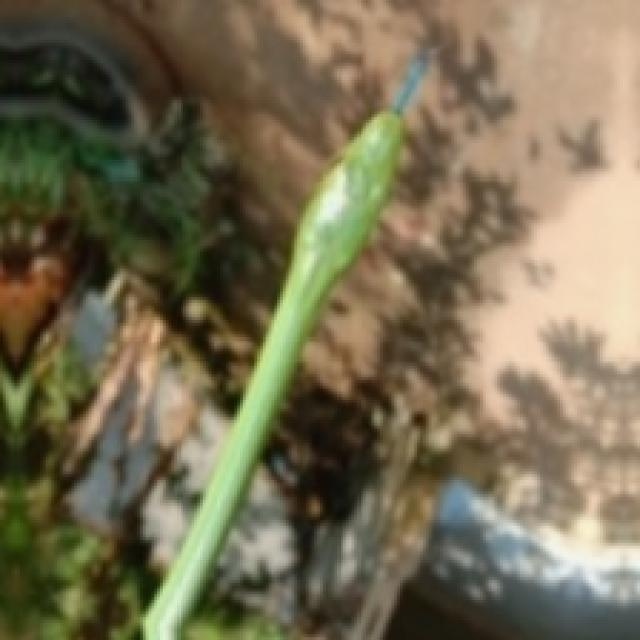red-tailed green ratsnake: (142, 48, 429, 640)
